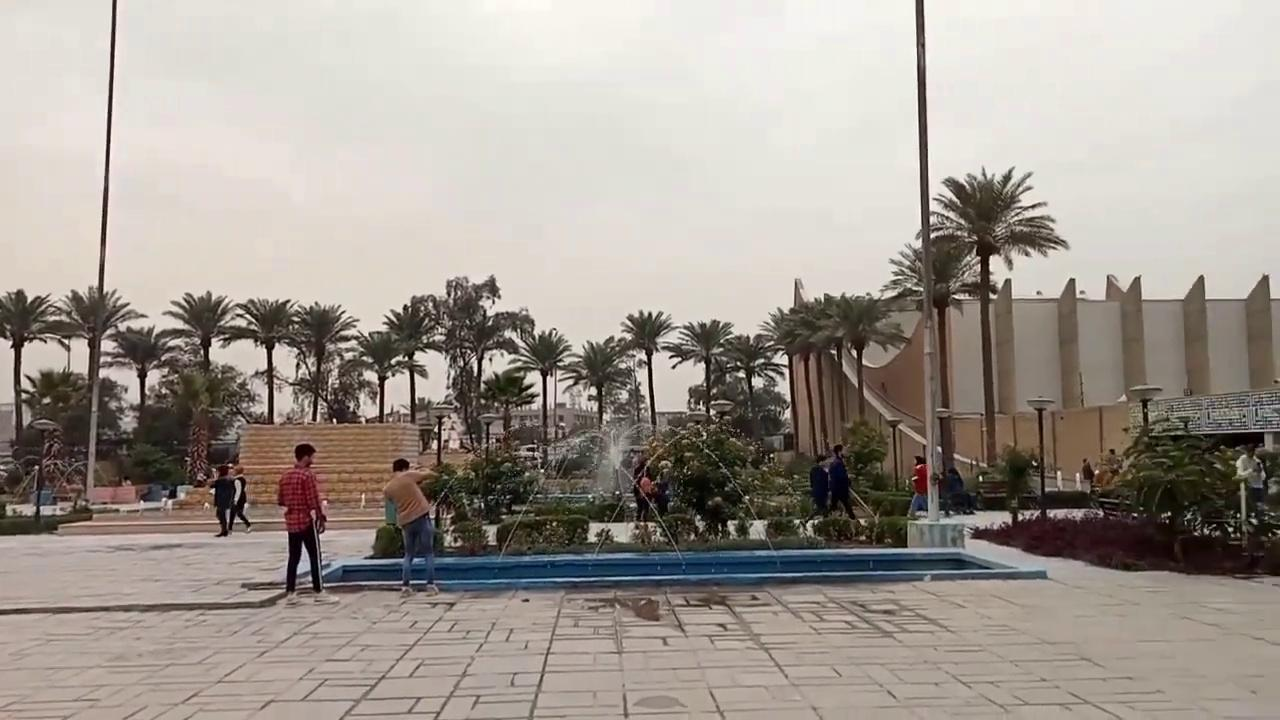fountain: (318, 412, 1046, 589), (318, 525, 1047, 589)
person: (382, 457, 439, 596), (276, 443, 327, 595), (1234, 443, 1267, 518), (827, 443, 856, 519), (208, 464, 236, 537), (227, 464, 252, 534), (944, 466, 976, 515), (808, 453, 830, 517), (906, 455, 927, 518), (634, 464, 654, 523), (1081, 457, 1094, 481)
tree: (914, 164, 1069, 468), (879, 232, 994, 478), (45, 284, 147, 502), (414, 273, 533, 450), (1111, 407, 1242, 562), (640, 415, 799, 542), (161, 289, 239, 484), (759, 295, 839, 459), (815, 291, 908, 422), (219, 296, 302, 424), (506, 326, 574, 468), (103, 323, 183, 439), (0, 287, 56, 449), (457, 305, 532, 423), (287, 300, 358, 423), (17, 365, 87, 489), (381, 299, 441, 424), (666, 318, 734, 425), (559, 335, 634, 432), (338, 328, 414, 423), (719, 332, 785, 439), (619, 308, 674, 430), (161, 289, 238, 372), (478, 368, 538, 452), (19, 366, 86, 424), (839, 417, 888, 494), (996, 443, 1036, 524)
